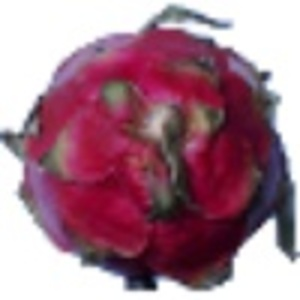pitaia: (1, 2, 300, 293)
